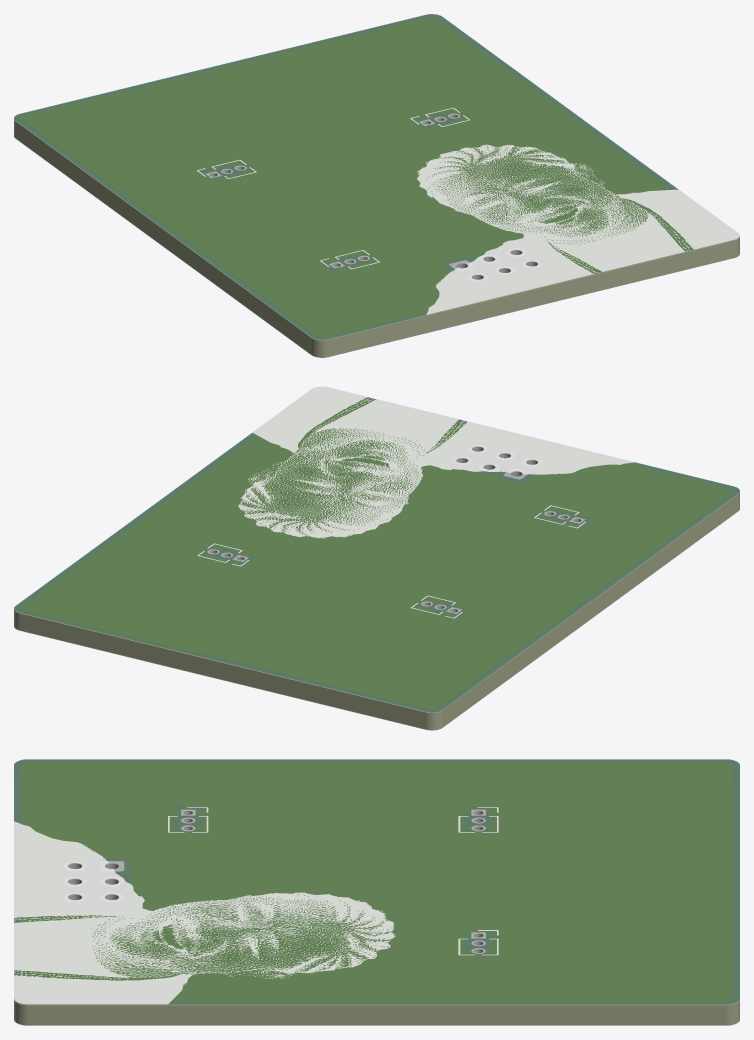
File: yo-dawg-sao.glb
3 views of the same model, one above another, from view 1: azimuth 30°, elevation 25°; view 2: azimuth 150°, elevation 25°; view 3: azimuth 270°, elevation 25° (orthographic). The views are drawn at different scales.
Parts seen in each view (by area): view 1: =>[0:1:1:6], =>[0:1:1:2], =>[0:1:1:4], =>[0:1:1:8]; view 2: =>[0:1:1:6], =>[0:1:1:2], =>[0:1:1:4], =>[0:1:1:8]; view 3: =>[0:1:1:6], =>[0:1:1:2], =>[0:1:1:4], =>[0:1:1:8].
Part boxes in pixels (box(x1,y1,x2,y2)): =>[0:1:1:6]: box(14, 14, 739, 357); =>[0:1:1:2]: box(21, 17, 690, 337); =>[0:1:1:4]: box(197, 107, 739, 314); =>[0:1:1:8]: box(14, 15, 739, 357); =>[0:1:1:6]: box(14, 397, 739, 730); =>[0:1:1:2]: box(21, 400, 732, 709); =>[0:1:1:4]: box(197, 386, 635, 618); =>[0:1:1:8]: box(14, 398, 739, 729); =>[0:1:1:6]: box(14, 759, 739, 1025); =>[0:1:1:2]: box(22, 763, 731, 1001); =>[0:1:1:4]: box(14, 807, 498, 1004); =>[0:1:1:8]: box(14, 760, 739, 1025).
Size of the model in its own units: 0.04 by 0.00166 by 0.05.
4 materials, 4 textured.
